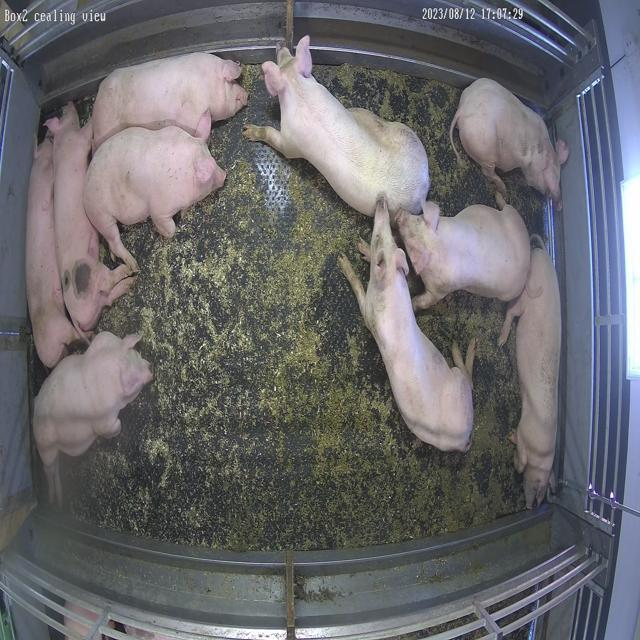Dirt: (64, 65, 526, 552), (316, 64, 496, 215), (508, 175, 544, 233)
Pig: (244, 35, 431, 216), (32, 332, 152, 506), (83, 126, 226, 272), (45, 102, 130, 332), (93, 52, 248, 150), (25, 136, 81, 368)
